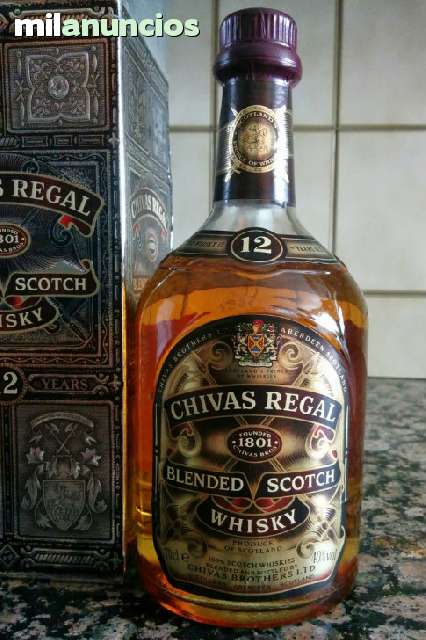Chivas Regal: (114, 5, 373, 635)
